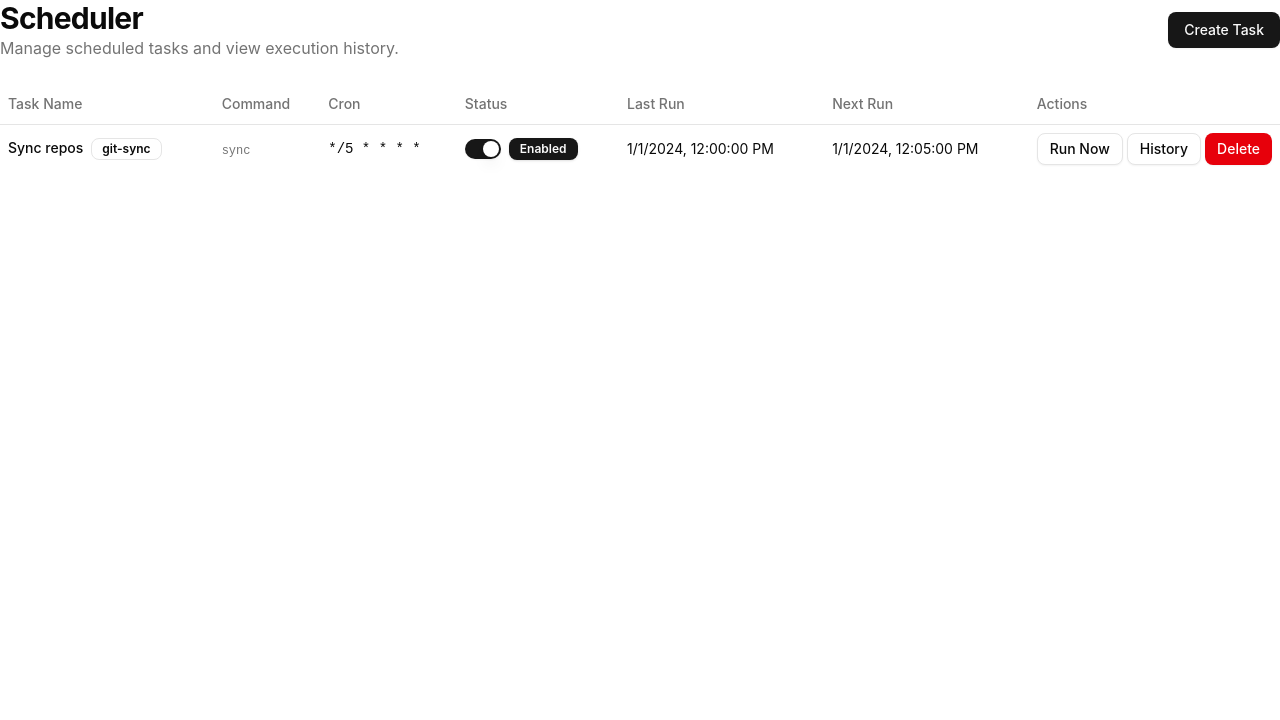
Test: ScheduledTasksPage › Create button is enabled when all fields are filled
Click the button "Create Task" at {"x": 1224, "y": 30}, box x1=1168 y1=12 x2=1279 y2=48
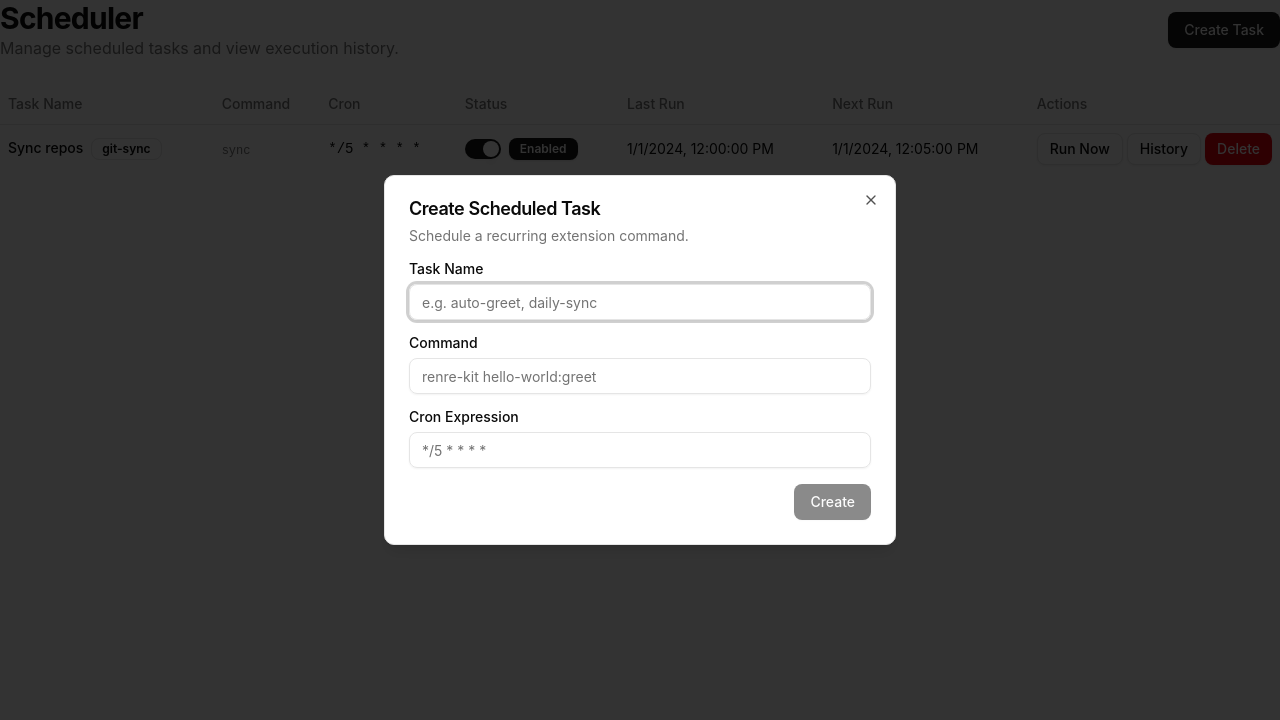
Type "my-ext" into the field labelled "Task Name" at {"x": 640, "y": 302}, box x1=409 y1=284 x2=871 y2=320
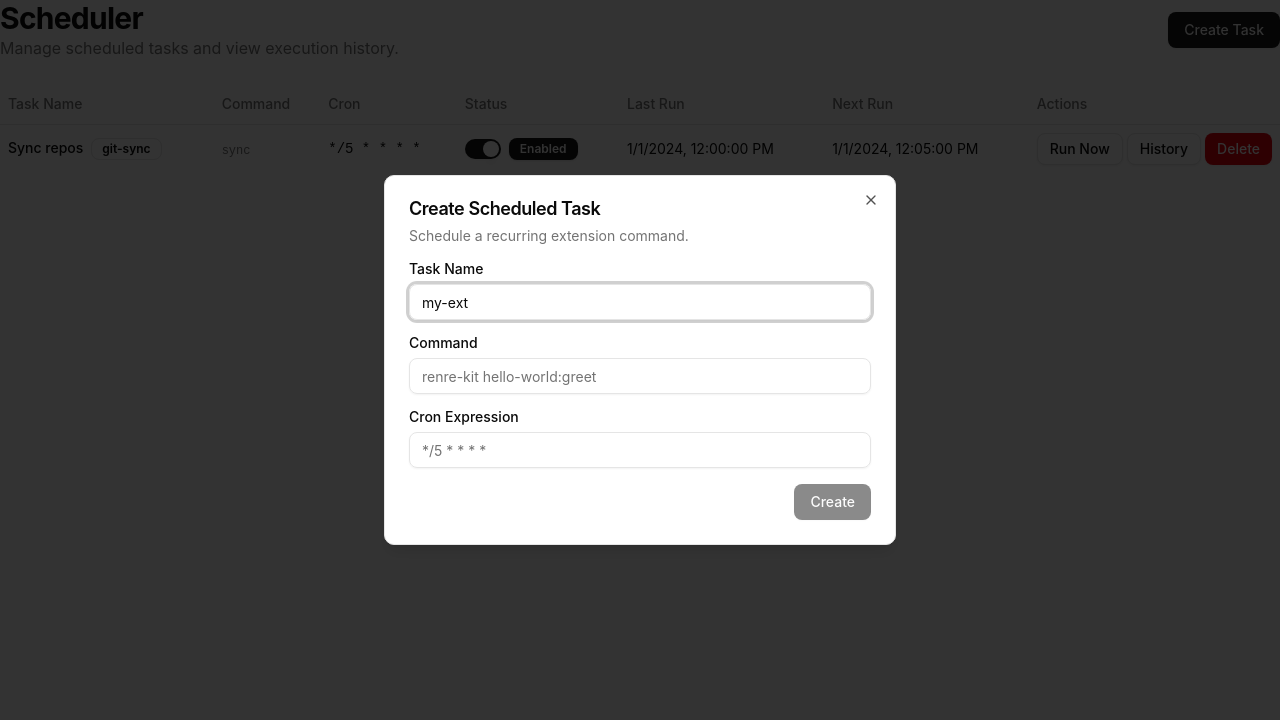
Type "run" into the field labelled "Command" at {"x": 640, "y": 376}, box x1=409 y1=358 x2=871 y2=394
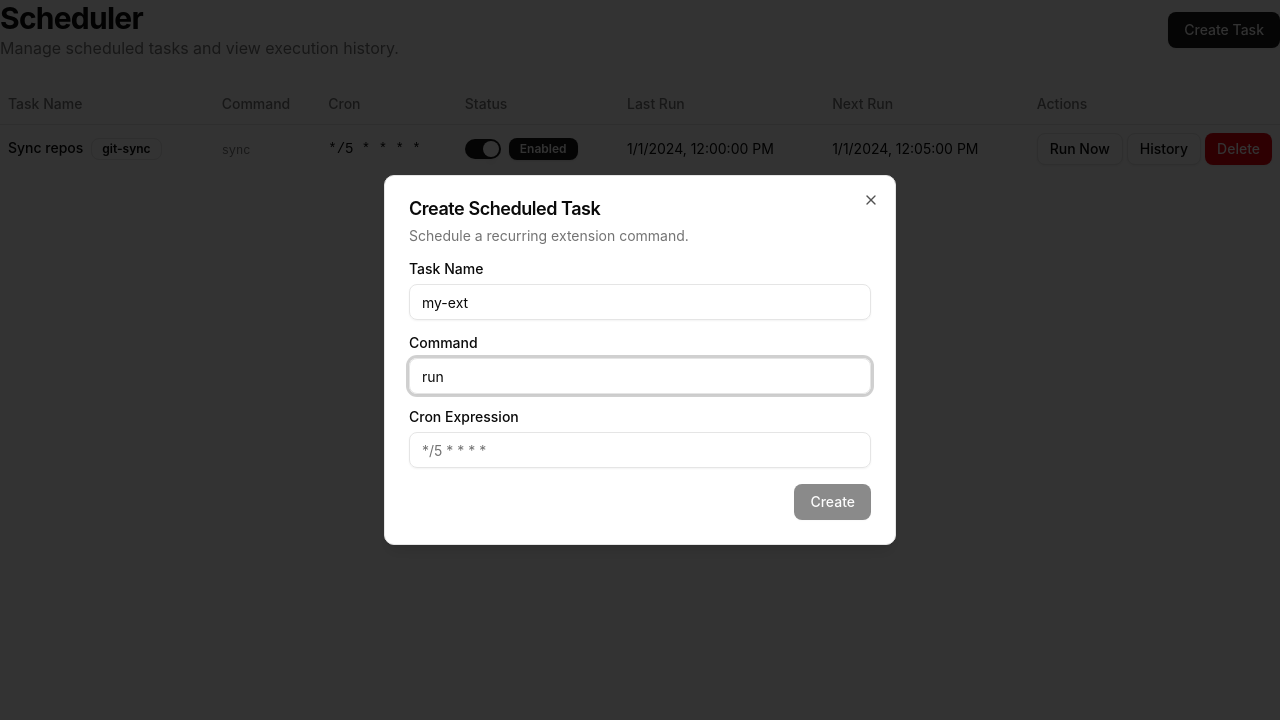
Type "0 * * * *" into the field labelled "Cron Expression" at {"x": 640, "y": 450}, box x1=409 y1=432 x2=871 y2=468
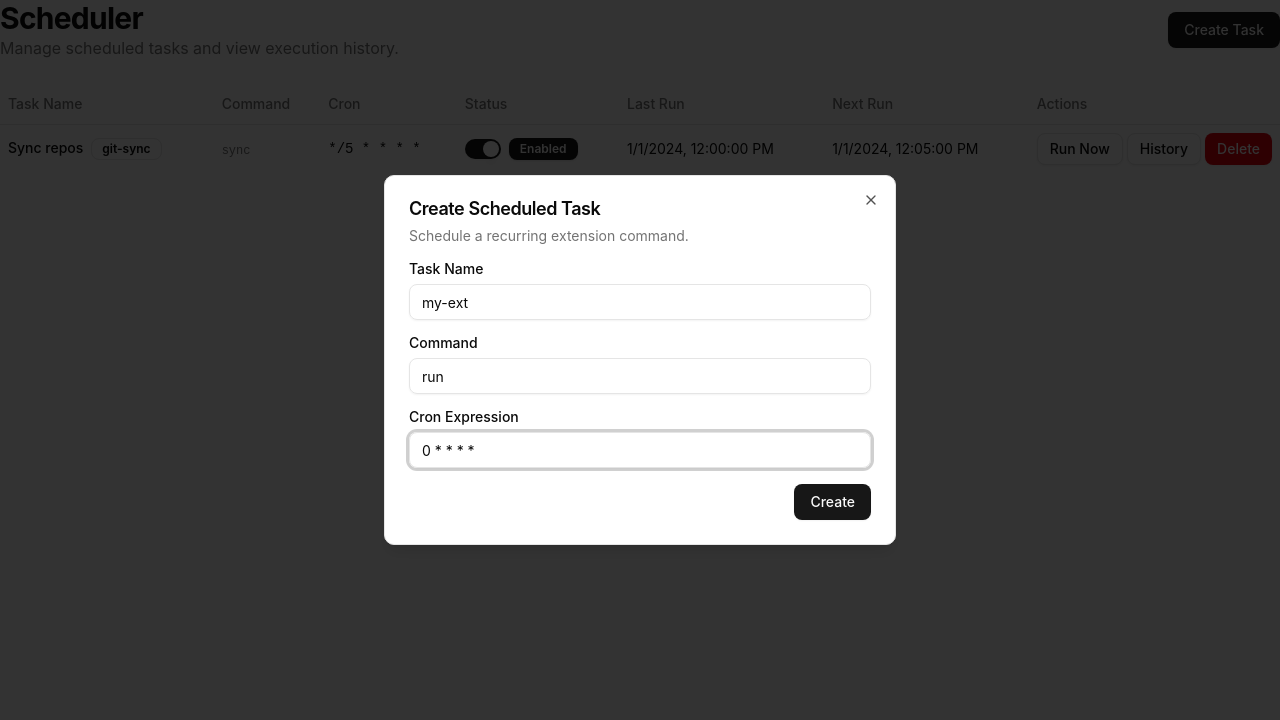
Now the button "Create" is enabled, box x1=794 y1=484 x2=871 y2=520
